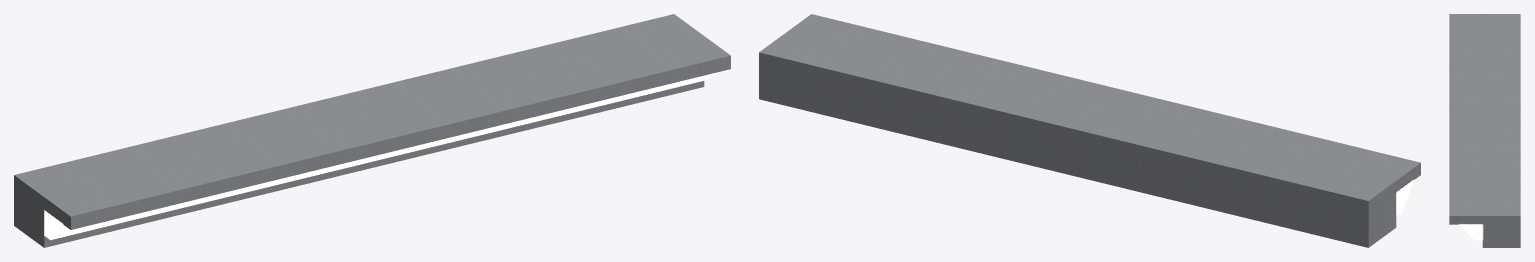
The model's file is MMM_Cafe_Light.fbx.
The picture shows the model from 3 angles, left to right: view 1: azimuth 30°, elevation 25°; view 2: azimuth 150°, elevation 25°; view 3: azimuth 270°, elevation 25°; orthographic projection. The views are drawn at different scales.
Parts seen in each view (by area): view 1: Lights5; view 2: Lights5; view 3: Lights5.
Boxes of the visible parts, x1,y1,x2,y2 form: Lights5: (14, 14, 730, 247); Lights5: (759, 14, 1420, 247); Lights5: (1449, 14, 1520, 247).
Size of the model in its own units: 340 by 24.97 by 50.64.
1 material, 1 textured.
